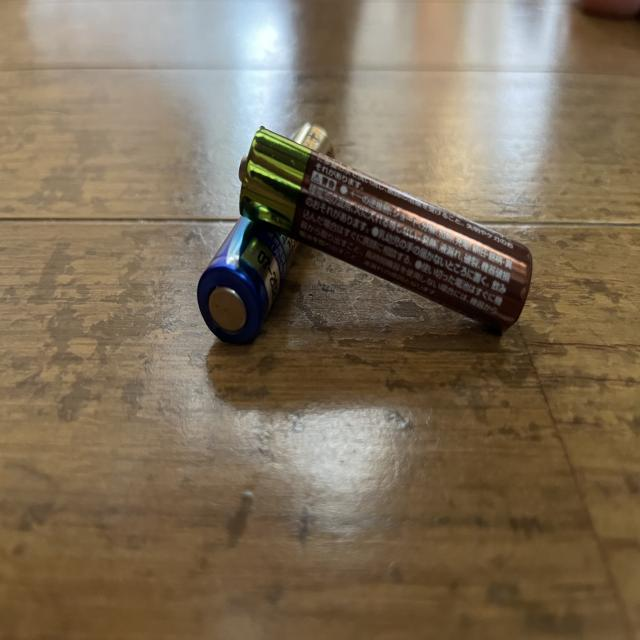hazardous waste: (232, 119, 534, 340), (190, 116, 339, 355)
